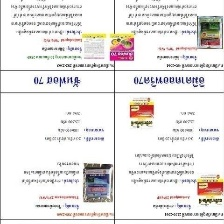insecticide: (81, 160, 114, 204), (193, 170, 223, 209), (127, 94, 157, 133), (193, 12, 224, 49), (108, 31, 137, 61)
